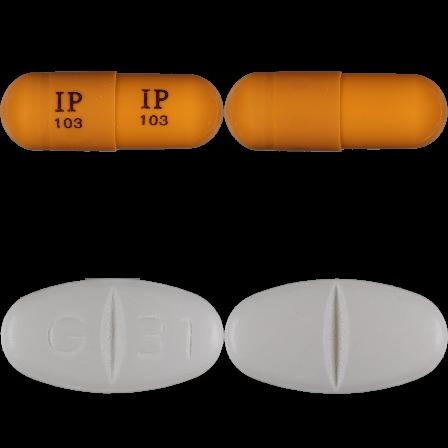67046-223: (0, 0, 224, 224)
